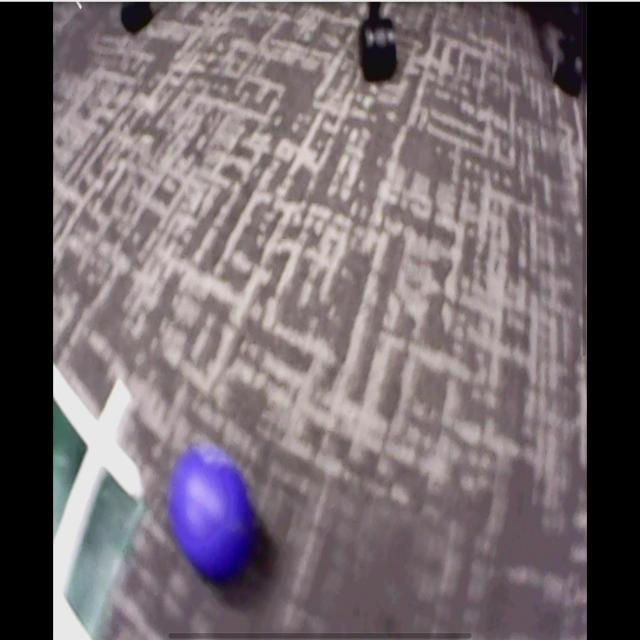ball: (173, 445, 252, 583)
